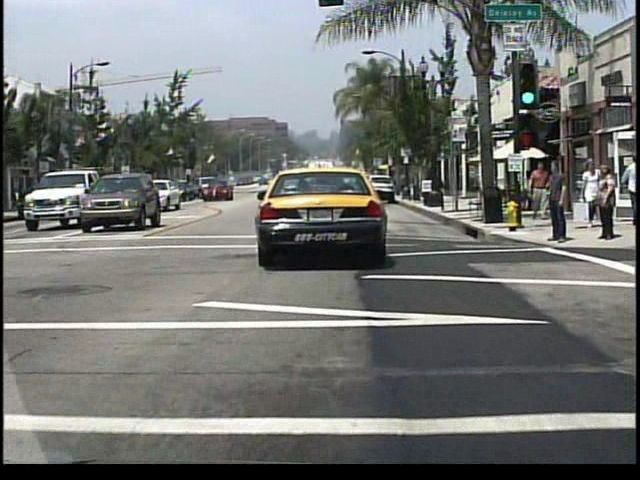person: (546, 158, 568, 244), (595, 165, 616, 243), (581, 159, 600, 230), (530, 164, 550, 219)
